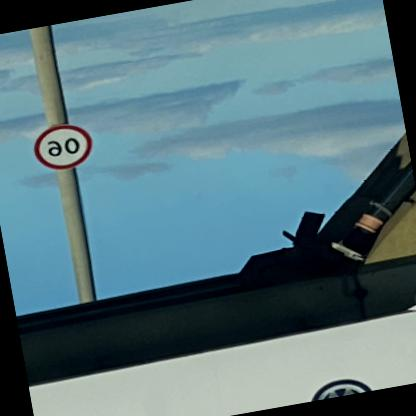speedlimit: (29, 122, 94, 175)
